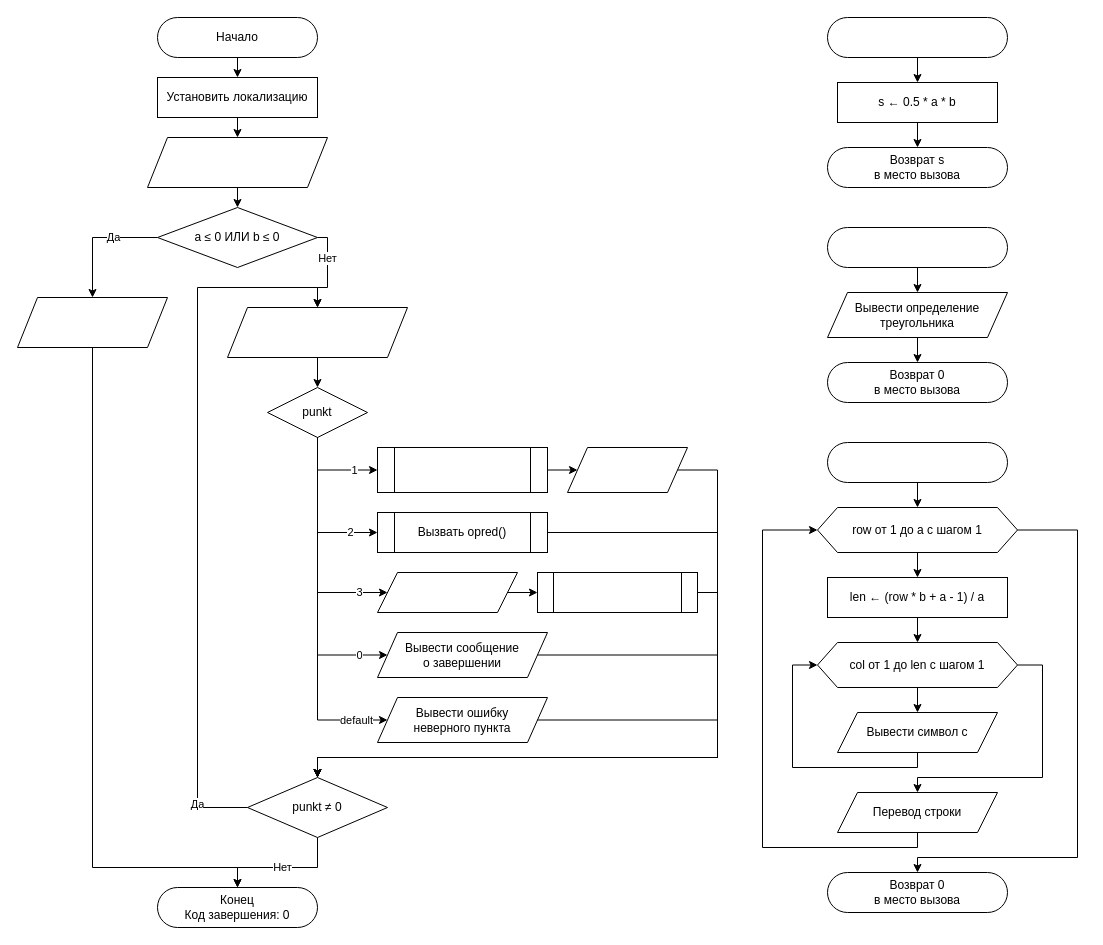
This 1103x945 diagram has some shape labels left out. The centre of each missing label's shape, as x and y in pixels:
"Ввести символ c" goes at point (447, 592).
"Вход в opred" goes at point (917, 247).
"Вход в ploshad Параметры: a, b" goes at point (917, 37).
"Вход в risunok Параметры: a, b, c" goes at point (917, 462).
"Вывести s" goes at point (627, 469).
"Вывести меню, ввести punkt" goes at point (317, 332).
"Вывести приглашения, ввести a, b" goes at point (237, 162).
"Вывести сообщение об ошибке" goes at point (92, 322).
"Вызвать ploshad(a, b) и сохранить в s" goes at point (462, 469).
"Вызвать risunok(a, b, c)" goes at point (617, 592).
